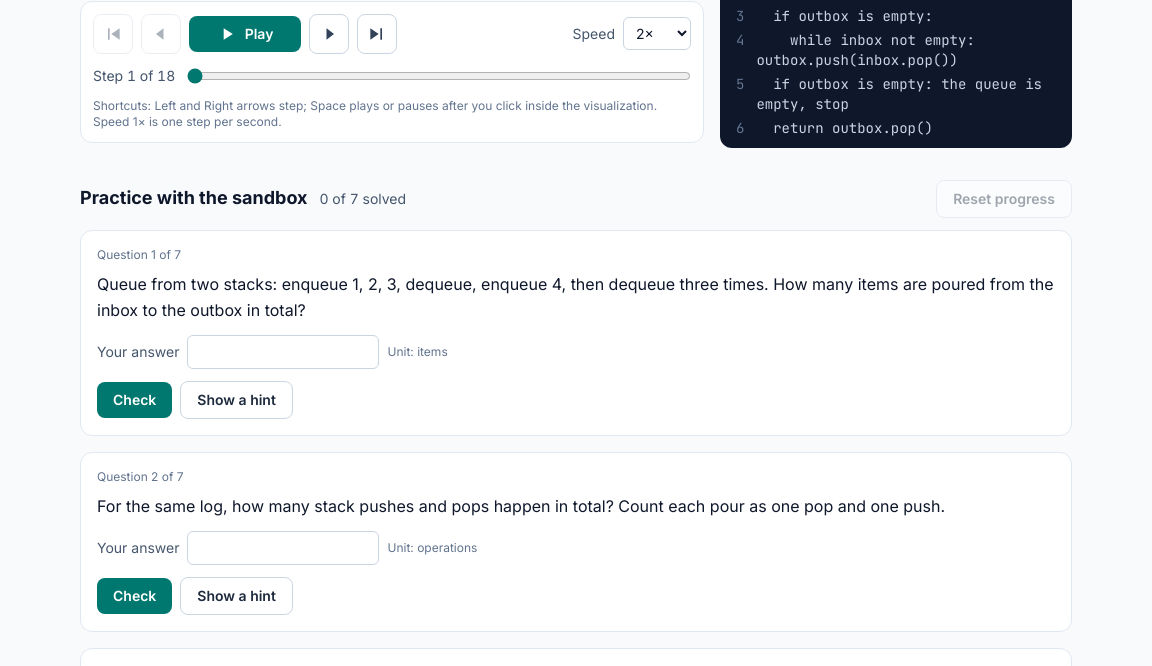
Test case: practice: stacks and queues lesson › checks a practice answer, wrong then right, with a hint
(page scrolled)
Type "3" into the field named "answer" at (284, 352), box [188,335,380,369]
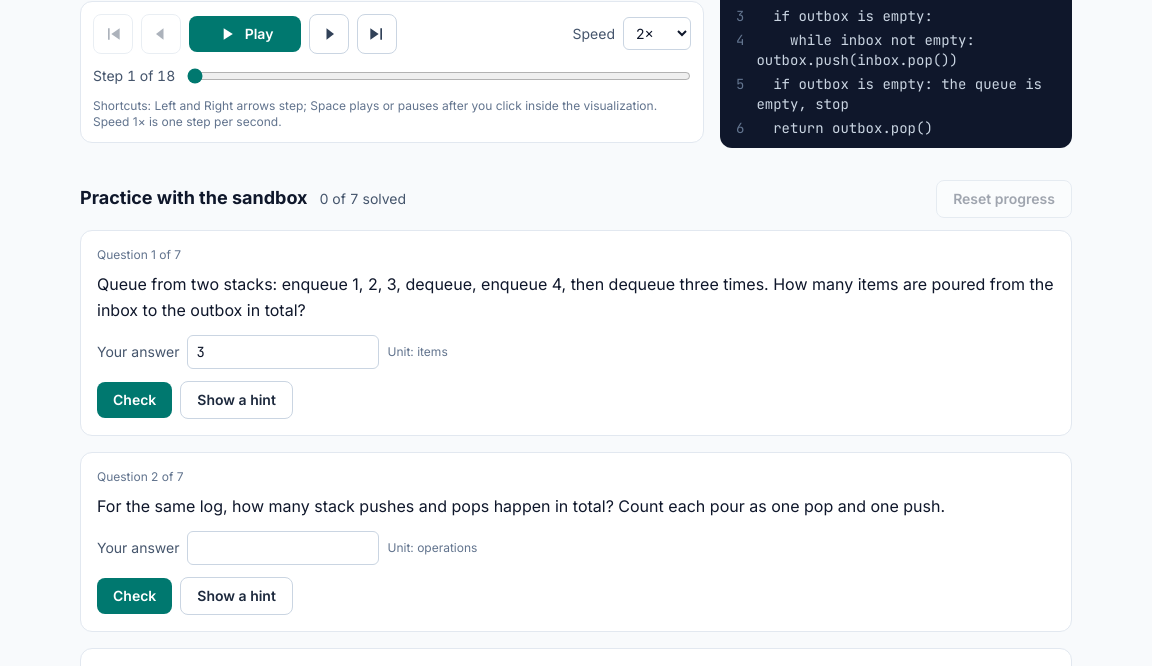
Submit the form "Your answer Unit: items Check Show a hint", box [97,335,448,419]
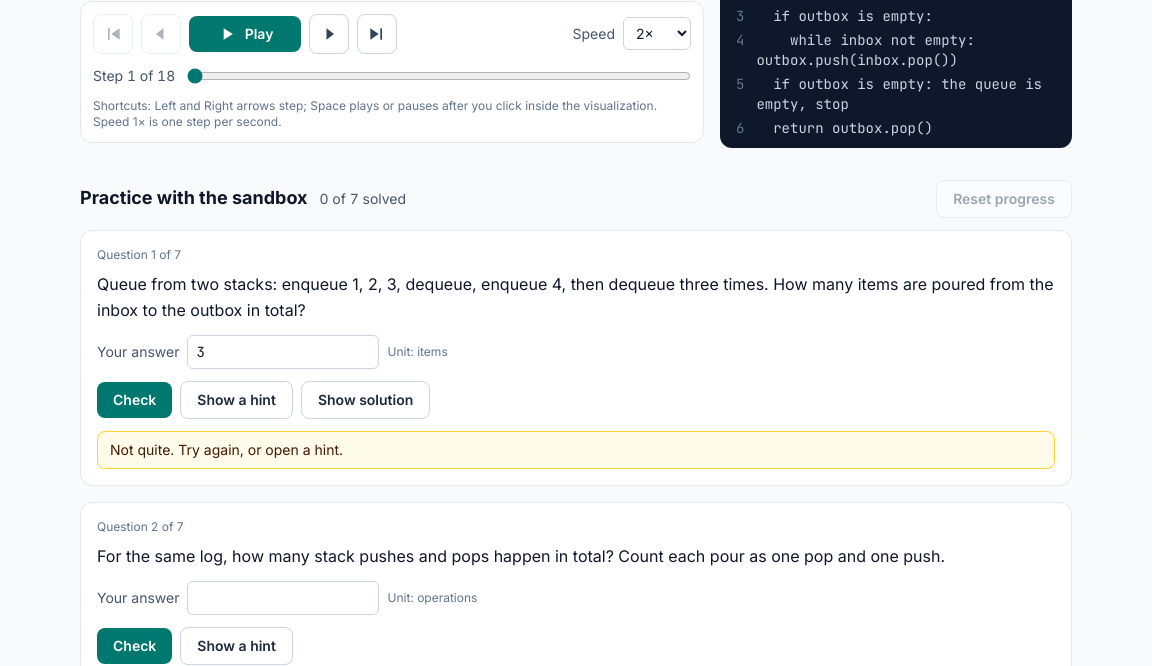
Expected: the list item that starts with "Question 1 of 7" shows "Not quite", [110,441,343,458]
Click the button "Show a hint" below "Question 1 of 7" at (237, 400), box [180,381,293,419]
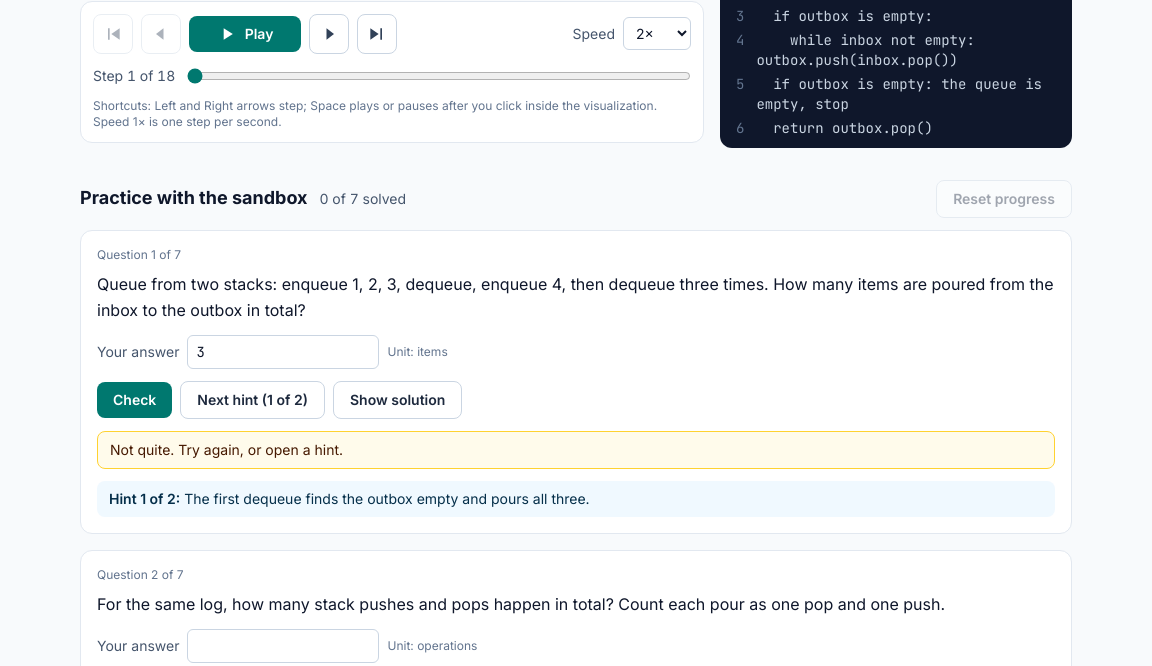
Expected: the list item that starts with "Question 1 of 7" shows "The first dequeue finds the outbox empty and pours all three.", [180,490,590,507]
Replace the text in the field named "answer" with "4" at (284, 352), box [188,335,380,369]
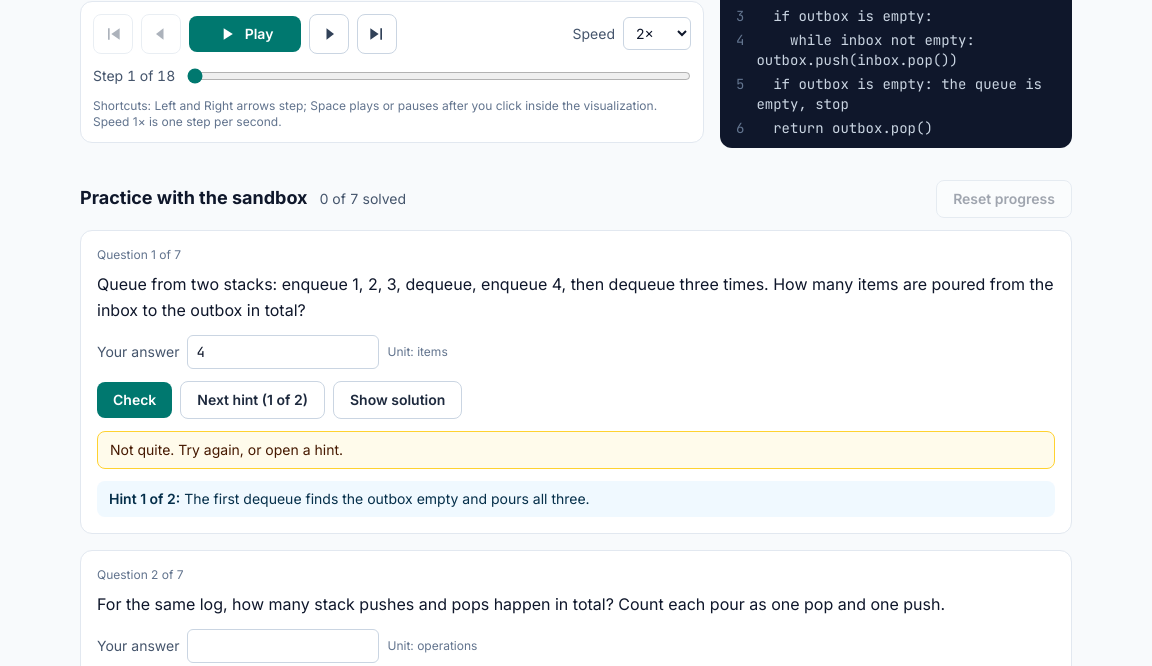
Submit the 1st form, box [97,335,462,419]
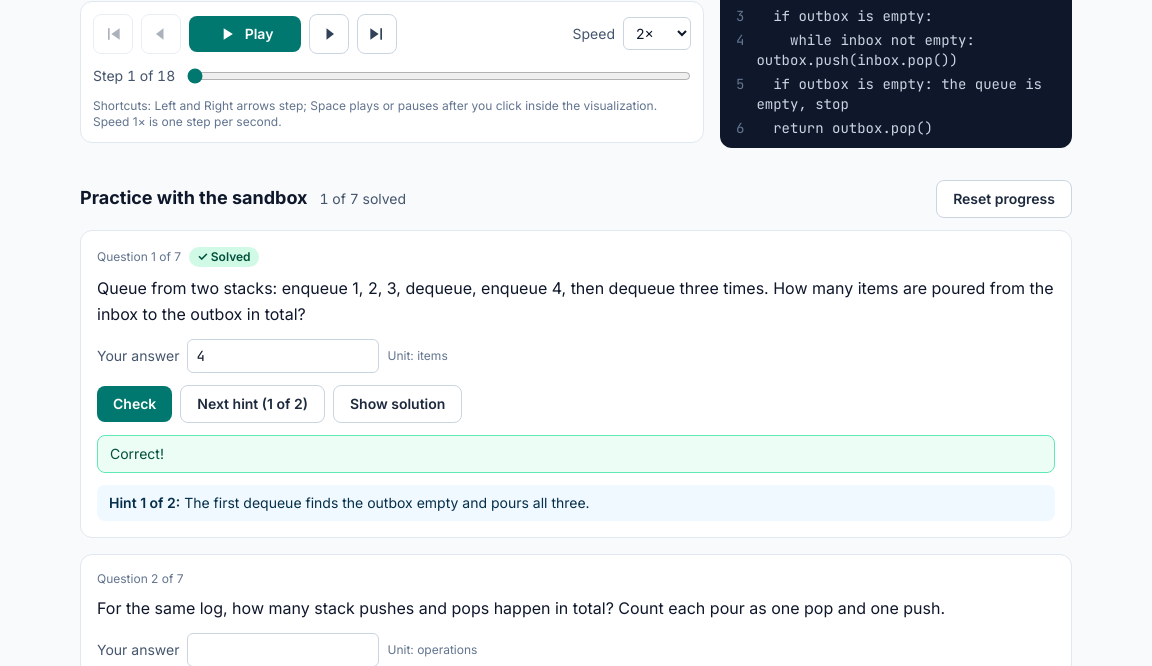
Expected: the list item that starts with "Question 1 of 7" shows "Correct!", [110,445,164,462]
